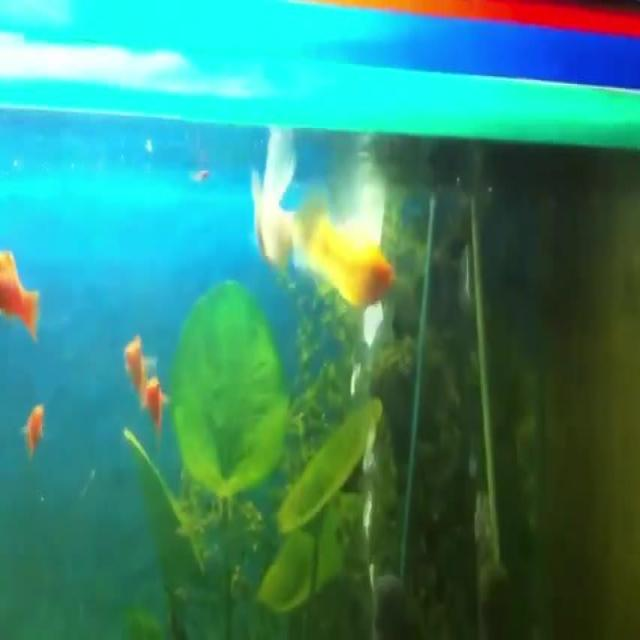PlatyFish: (250, 114, 398, 337), (0, 232, 45, 348)
